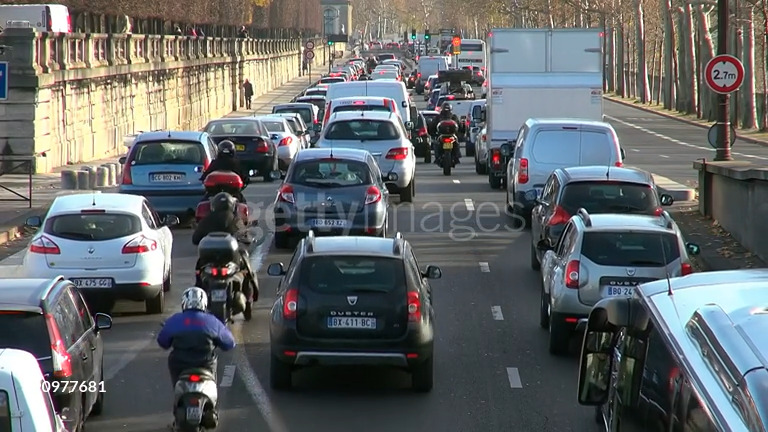car_number: (327, 317, 376, 329), (71, 278, 113, 287), (311, 219, 349, 228), (151, 173, 184, 181)
